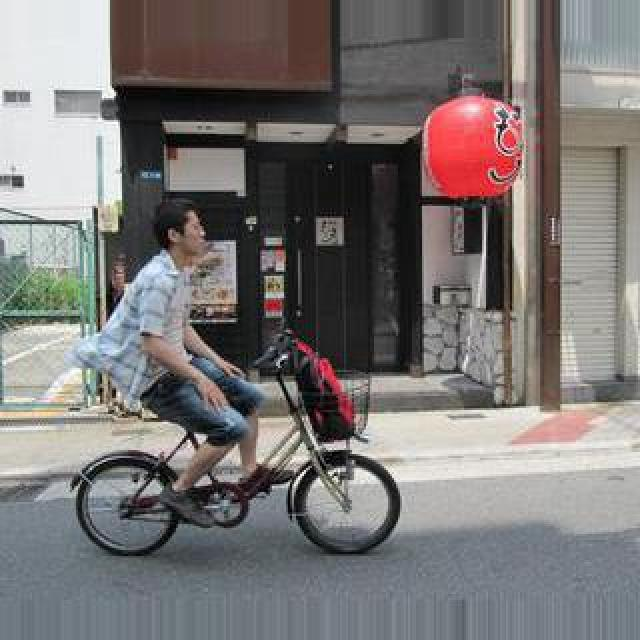MC-Bike: (106, 200, 270, 510)
Person: (68, 333, 402, 567)
